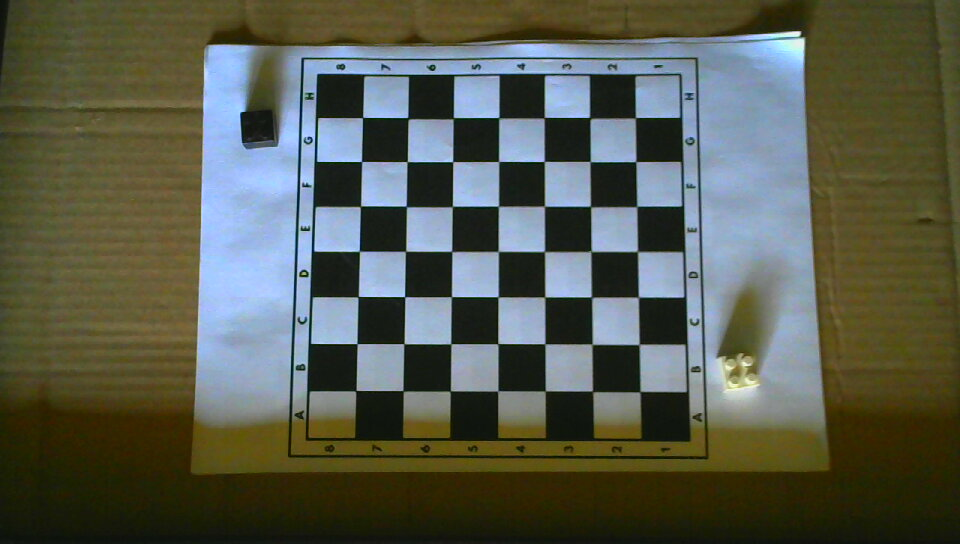bp: (238, 110, 278, 150)
wp: (715, 351, 761, 393)
